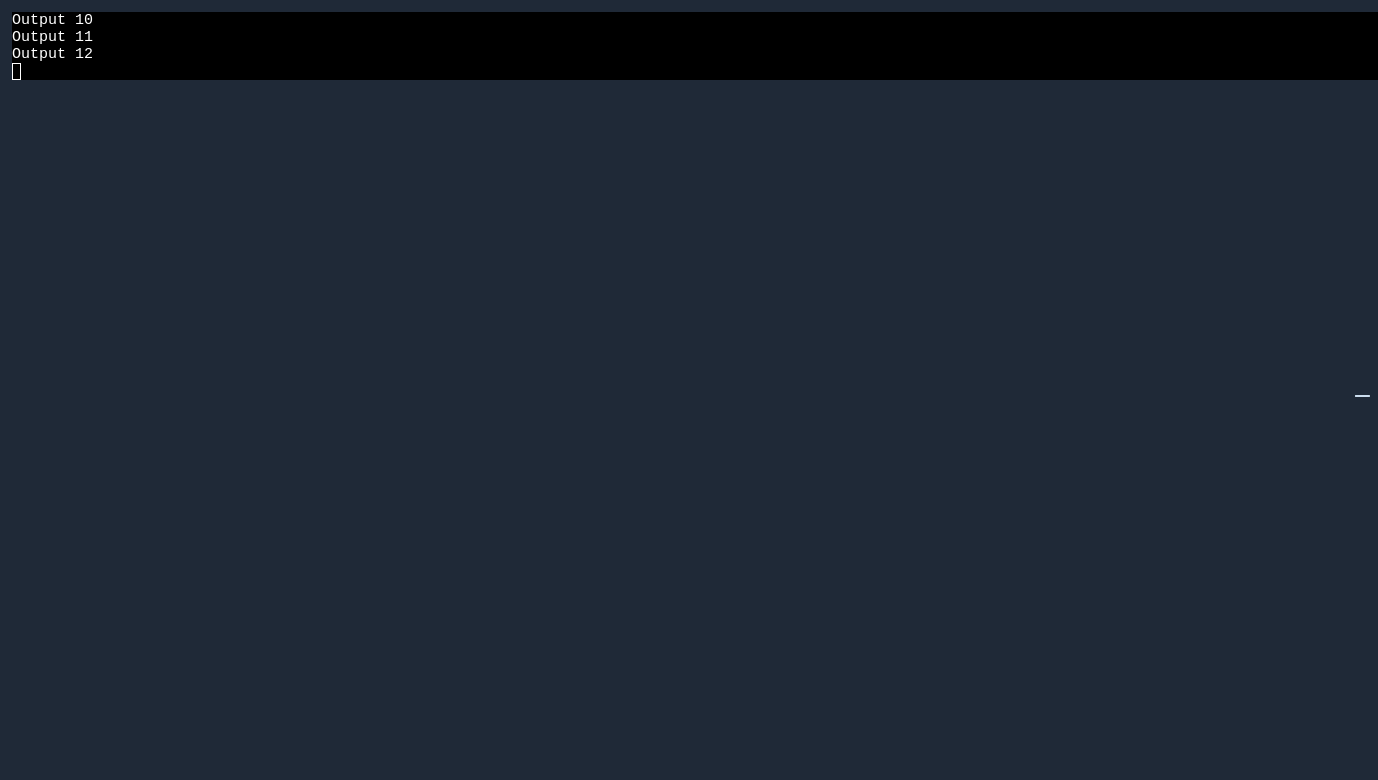
Test case: terminal output history › shows the visible rows, counts appends past the scrollback limit, and returns to the bottom
Later steps or results of the test are not shown.
(page scrolled)
Press PageUp in the element named "Terminal output history", box [1355,395,1370,397]
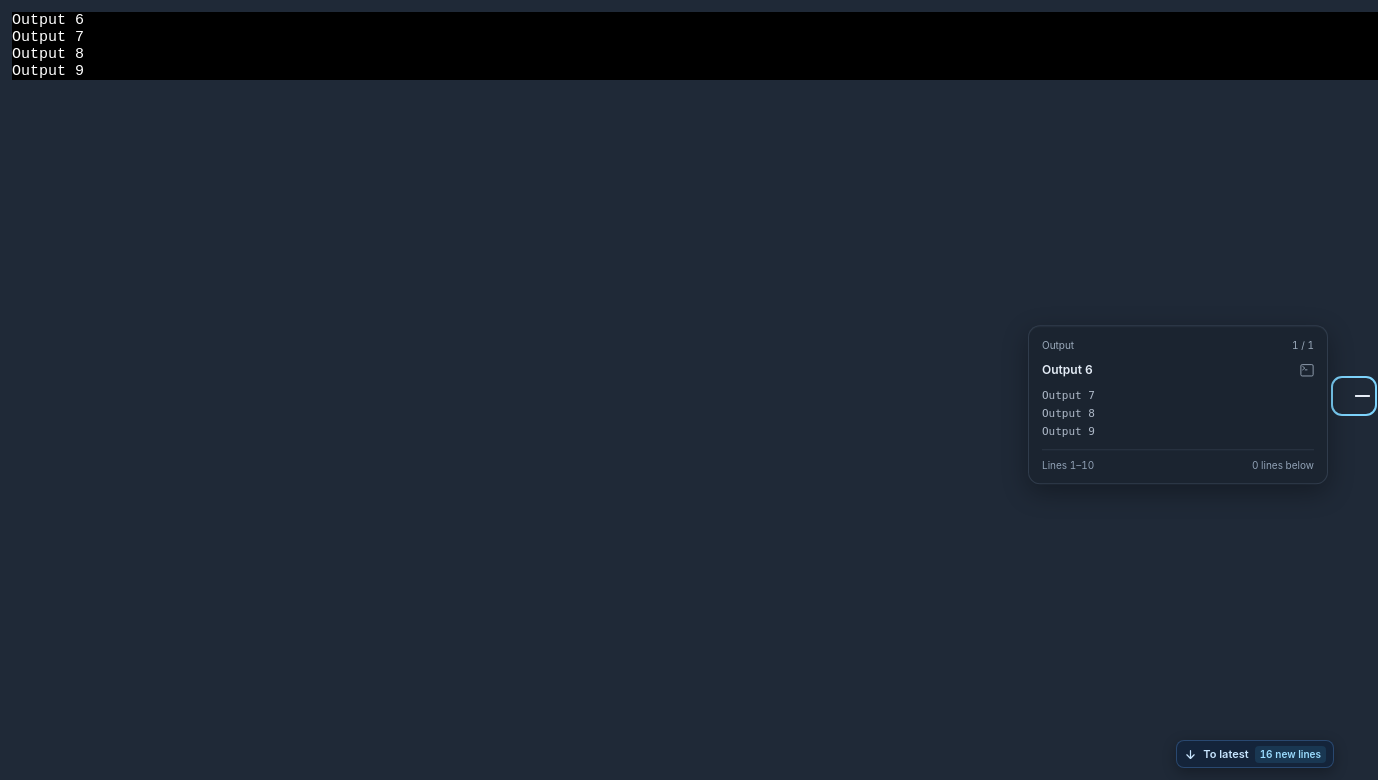
Click the button with aria-label "To latest, 16 new lines" at [1255, 754], box [1176,740,1334,768]
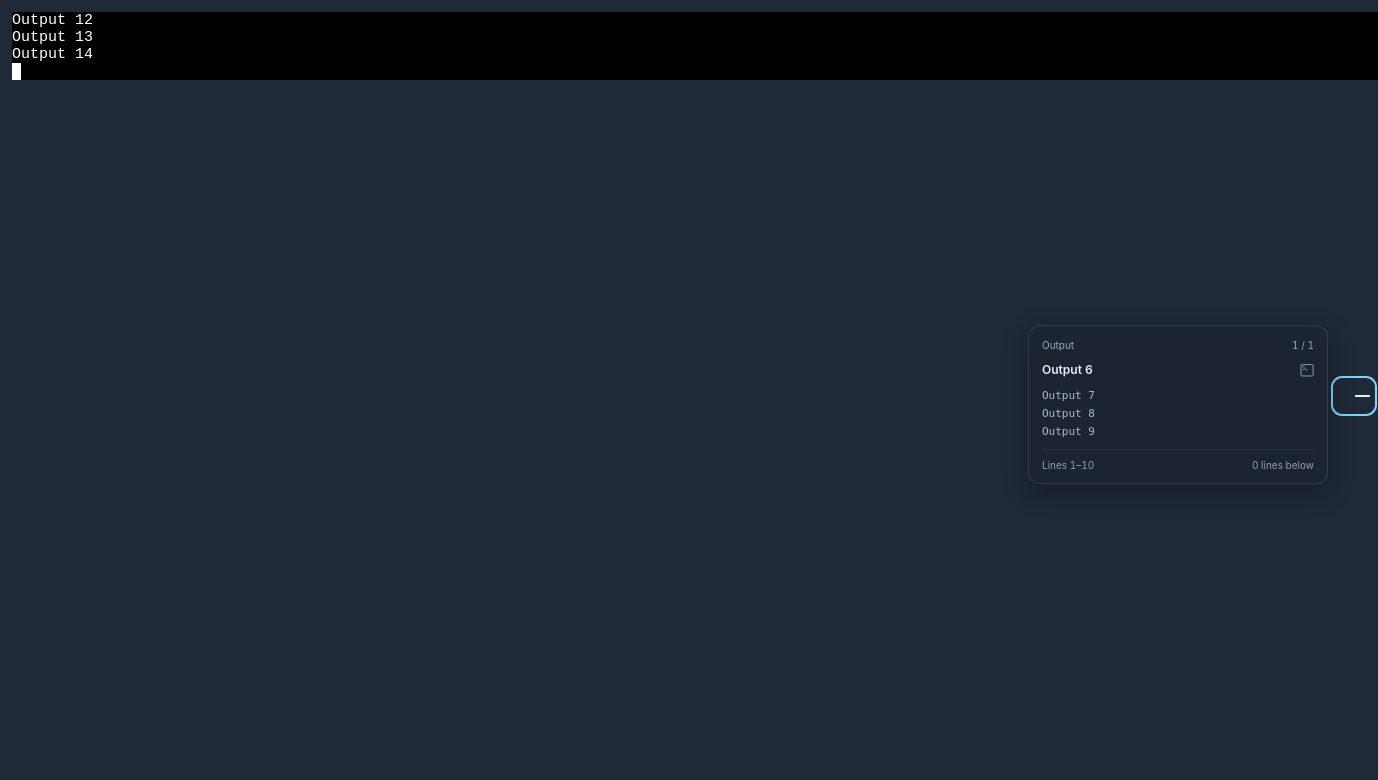
Check: the button "To latest" is gone
Press ArrowUp in the element named "Terminal output history", box [1355,395,1370,397]
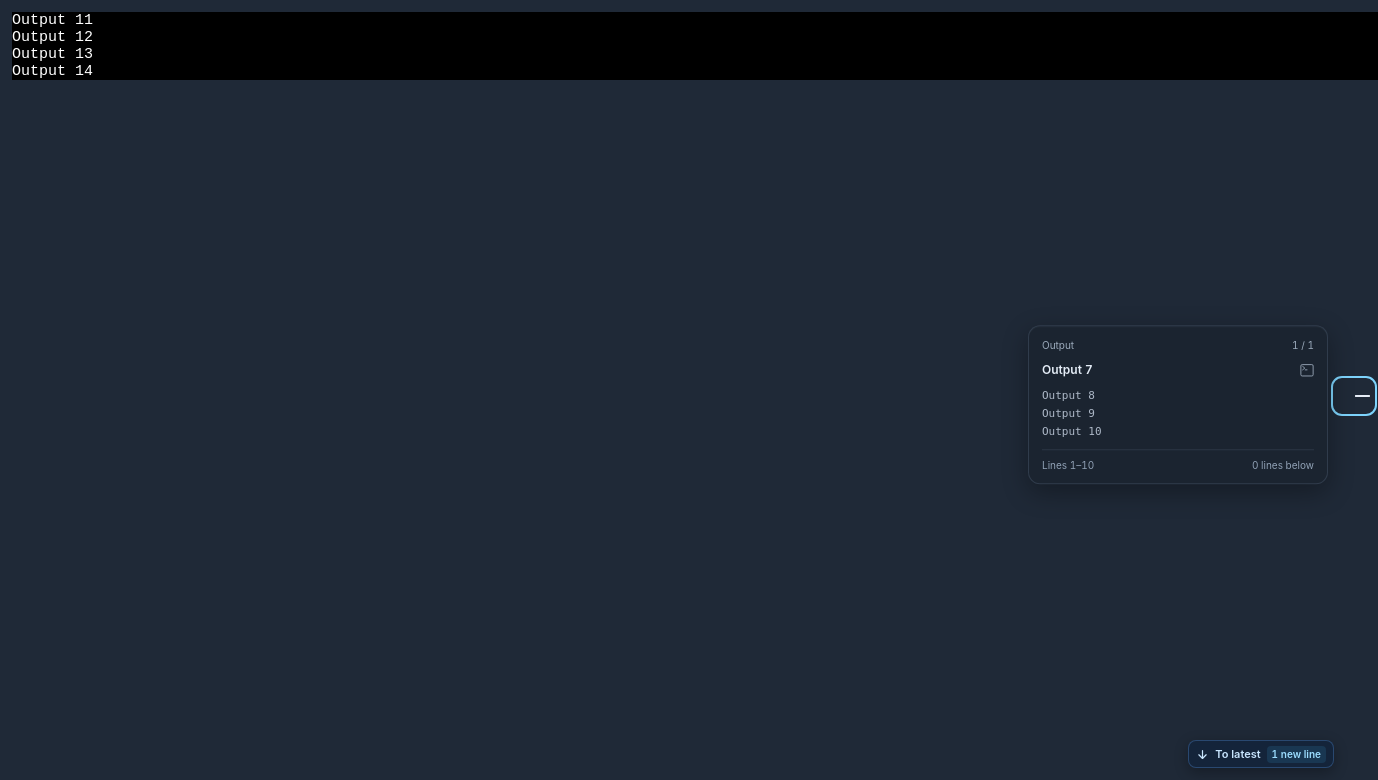
Check: the button with aria-label "To latest, 1 new line" is shown, box [1188,740,1334,768]
